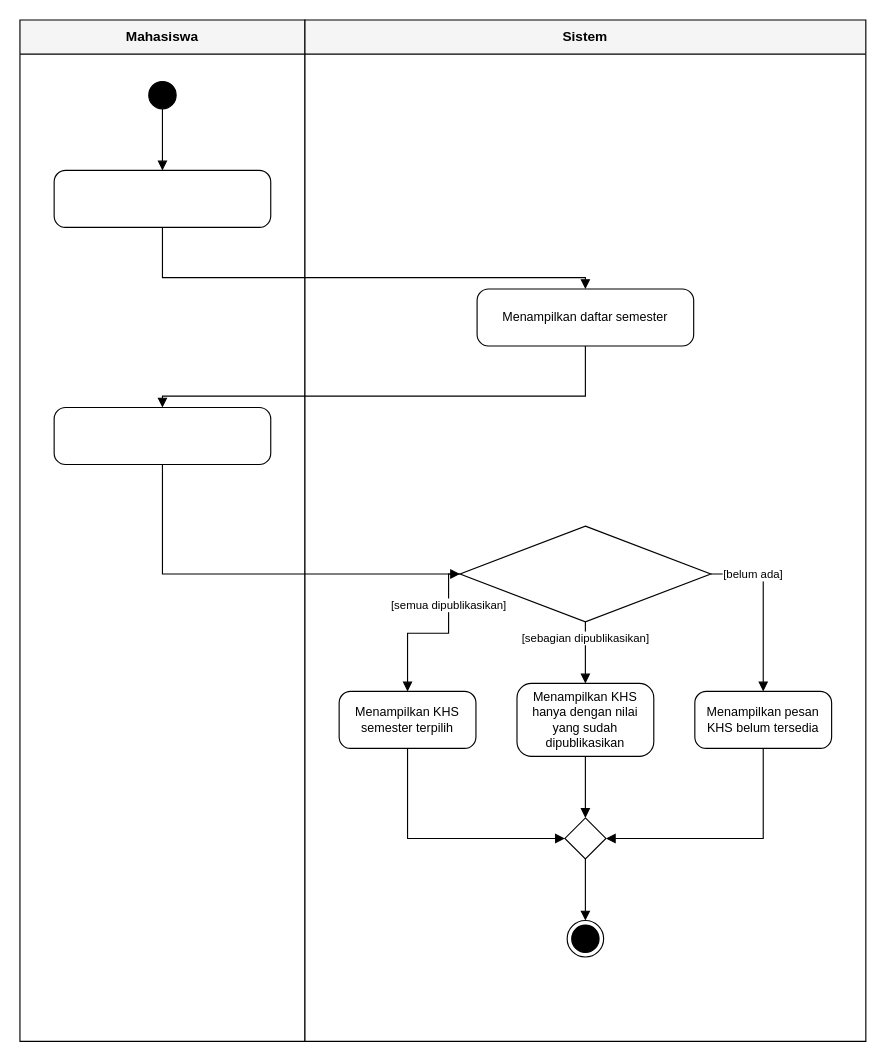
Some shapes in this 886 by 1061 pixel diagram are drawn without their labels. The shapes that lost their labels are listed below. From the top down, each one's centre as x and y in pixels, then its label:
At (162,198): "Membuka fungsi Lihat KHS".
At (162,435): "Memilih semester".
At (585,573): "Nilai terpublikasi pada semester?".
